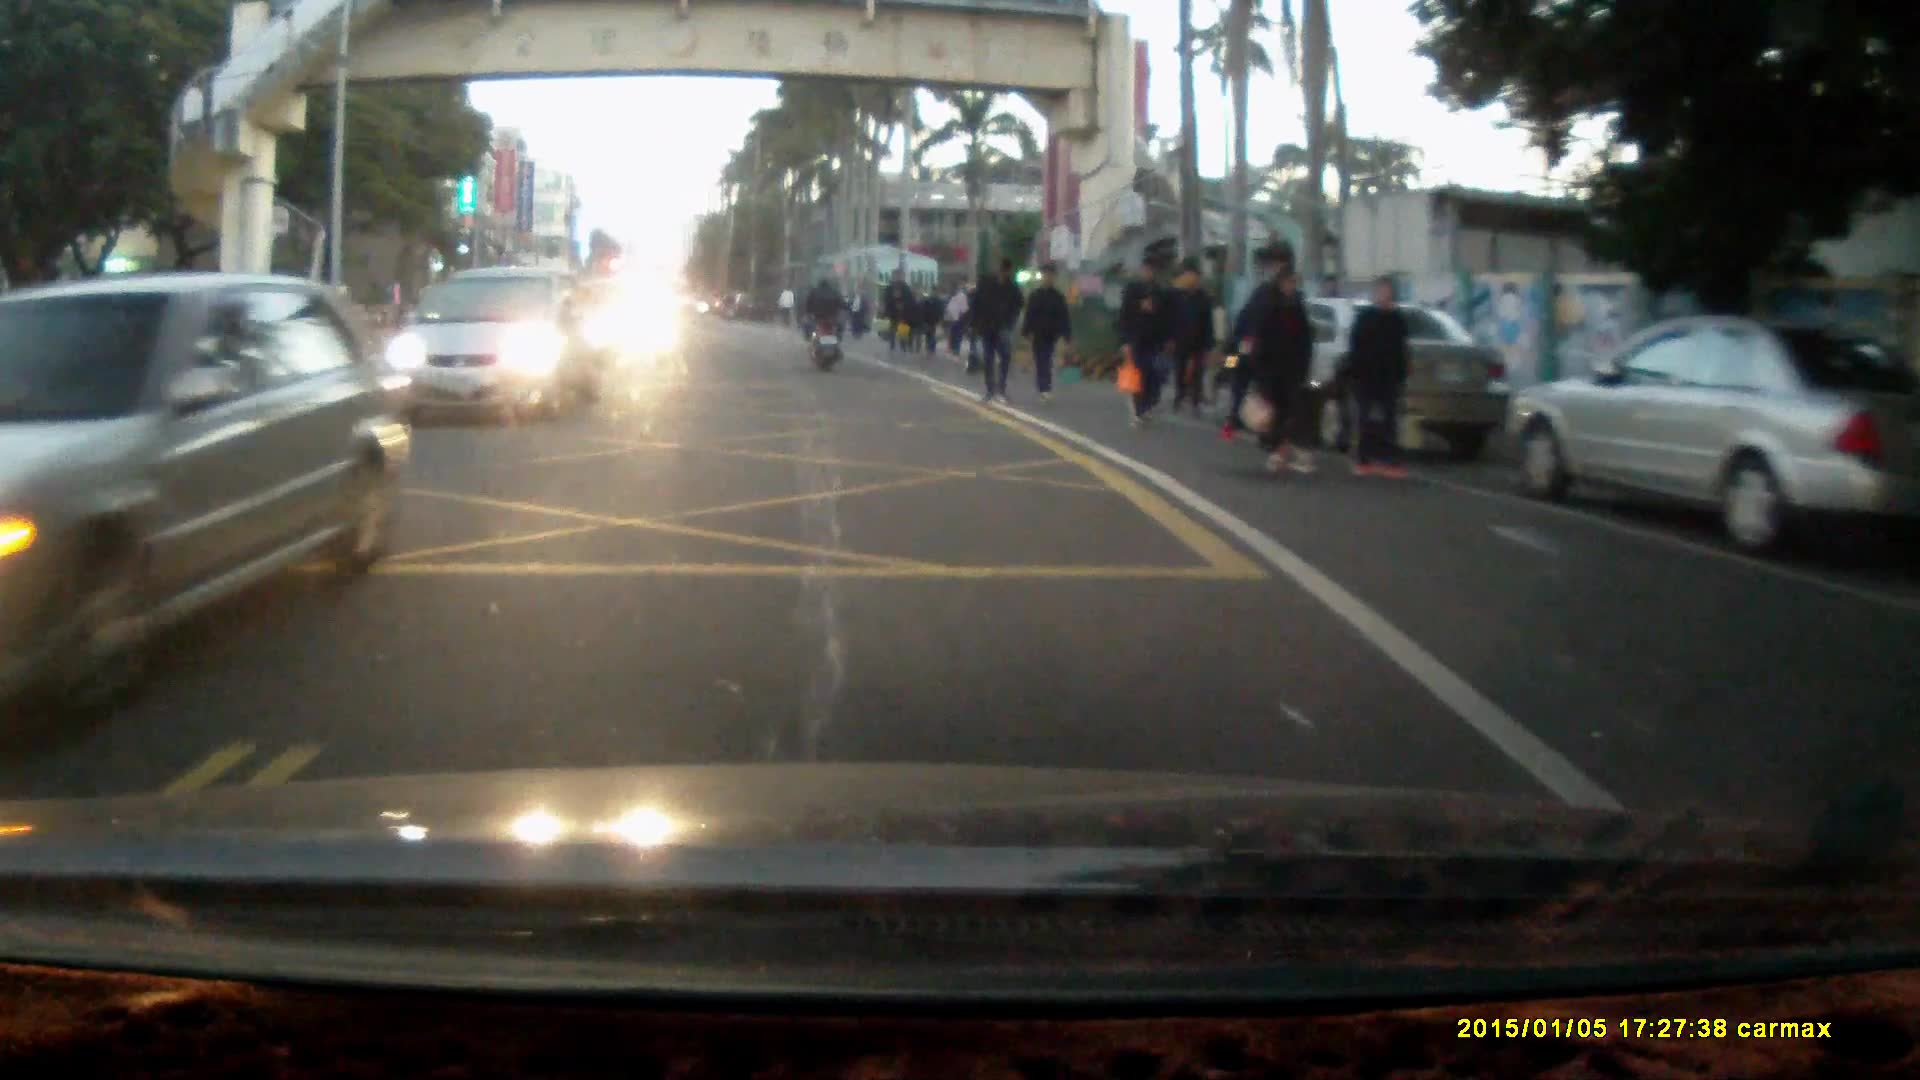pedestrian: (1337, 272, 1414, 481), (1251, 265, 1320, 478), (1118, 254, 1174, 426), (976, 266, 1031, 410), (1176, 259, 1223, 424), (1022, 262, 1074, 400), (879, 267, 910, 357), (942, 283, 971, 365), (899, 278, 931, 351)
rider: (802, 275, 847, 375)
vehicle: (1, 269, 418, 704), (1502, 320, 1920, 562), (1215, 299, 1513, 453), (375, 266, 605, 428)
